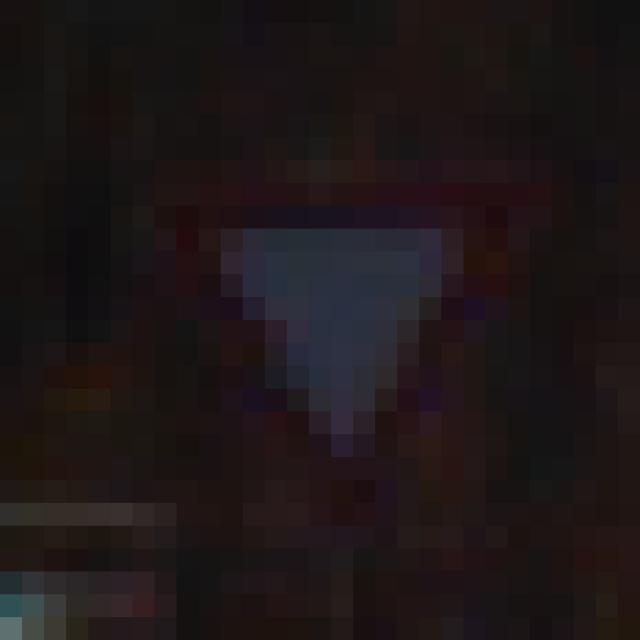Give Way: (134, 138, 531, 527)
